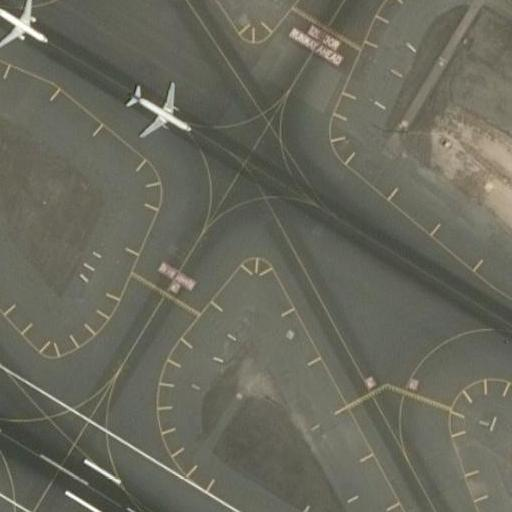Aircraft: (122, 77, 193, 143), (0, 0, 49, 60)
